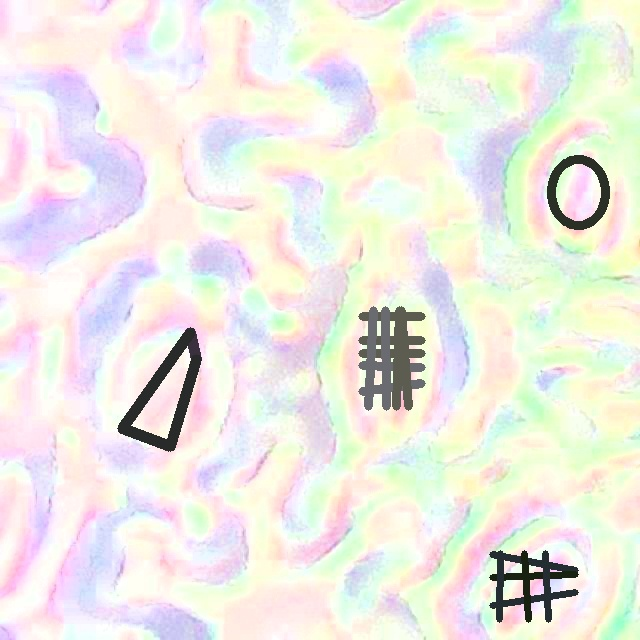close: (118, 327, 201, 450), (358, 306, 425, 410)
open: (489, 550, 578, 622), (546, 154, 610, 229)
